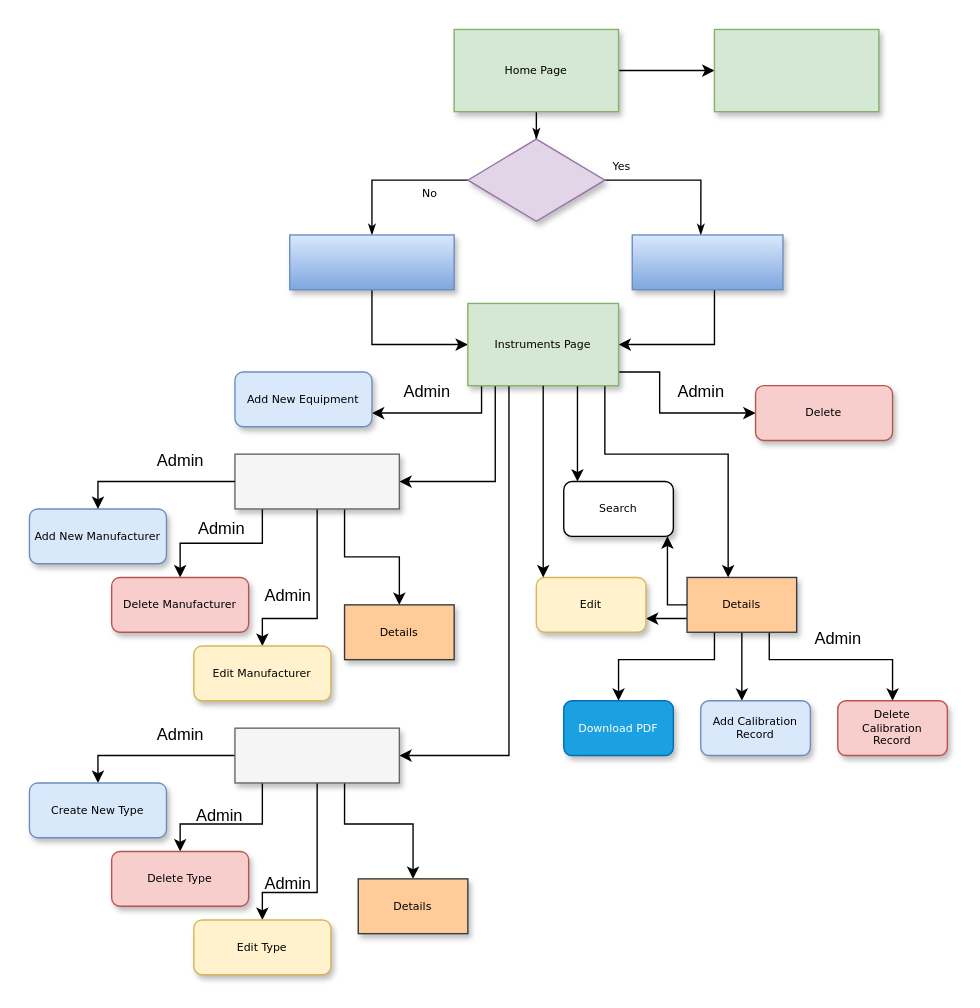
The diagram is 980 pixels wide and 1008 high, and some of its shapes have lost their labels. The shapes that lost their labels are listed below. From the top down, each one's centre as x and y in pixels, then its label:
(797,72): Privacy Page
(537,181): Existing User ?
(372,263): Register
(708,263): Login
(318,483): Manage Manufacturers
(318,757): Manage Instrument Types
